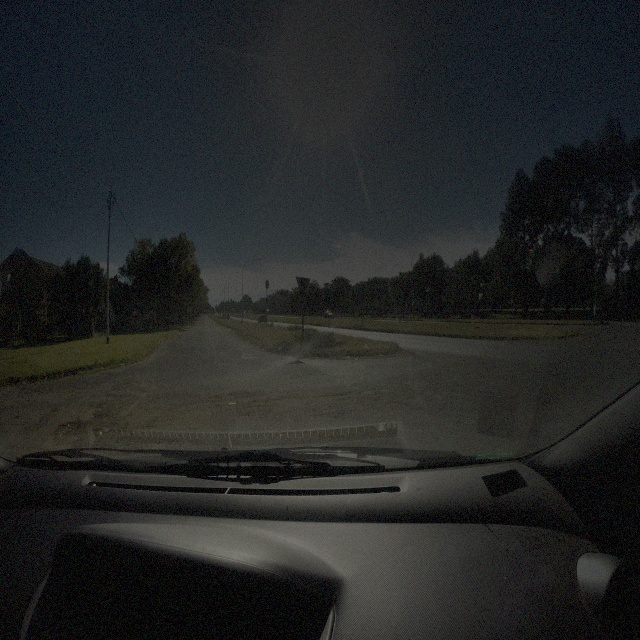pothole: (52, 420, 78, 439)
